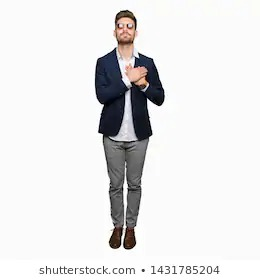F_M_suit jacket: (95, 45, 165, 141)
